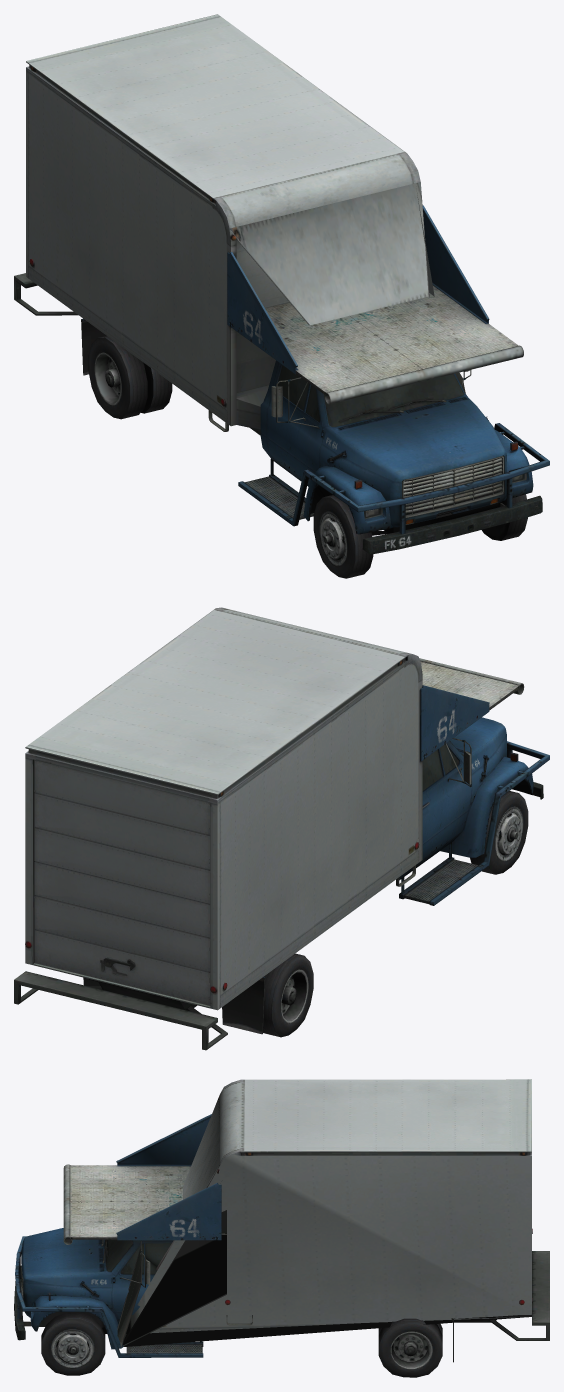
Rendered from Food Truck.fbx.
3 renders of one model, top to bottom at view 1: azimuth 30°, elevation 25°; view 2: azimuth 150°, elevation 25°; view 3: azimuth 270°, elevation 25°, orthographic. The views are drawn at different scales.
Parts seen in each view (by area): view 1: Prp_Food Truck, Prp_Bus R.R.Tire-01, Prp_Bus F.R.Tire-01, Prp_Bus F.L.Tire-01; view 2: Prp_Food Truck, Prp_Bus R.R.Tire-01, Prp_Bus F.R.Tire-01; view 3: Prp_Food Truck, Prp_Bus F.L.Tire-01, Prp_Bus L.R.Tire-01.
Boxes of the visible parts, x1,y1,x2,y2 form: Prp_Food Truck: (14,14,549,554); Prp_Bus R.R.Tire-01: (88,335,172,419); Prp_Bus F.R.Tire-01: (313,495,373,578); Prp_Bus F.L.Tire-01: (482,494,527,540); Prp_Food Truck: (14,607,549,1050); Prp_Bus R.R.Tire-01: (263,953,313,1037); Prp_Bus F.R.Tire-01: (470,791,528,874); Prp_Food Truck: (14,1079,549,1362); Prp_Bus F.L.Tire-01: (41,1312,105,1375); Prp_Bus L.R.Tire-01: (378,1318,442,1377).
Size of the model in its own units: 120 by 172 by 366.
1 material, 1 textured.
